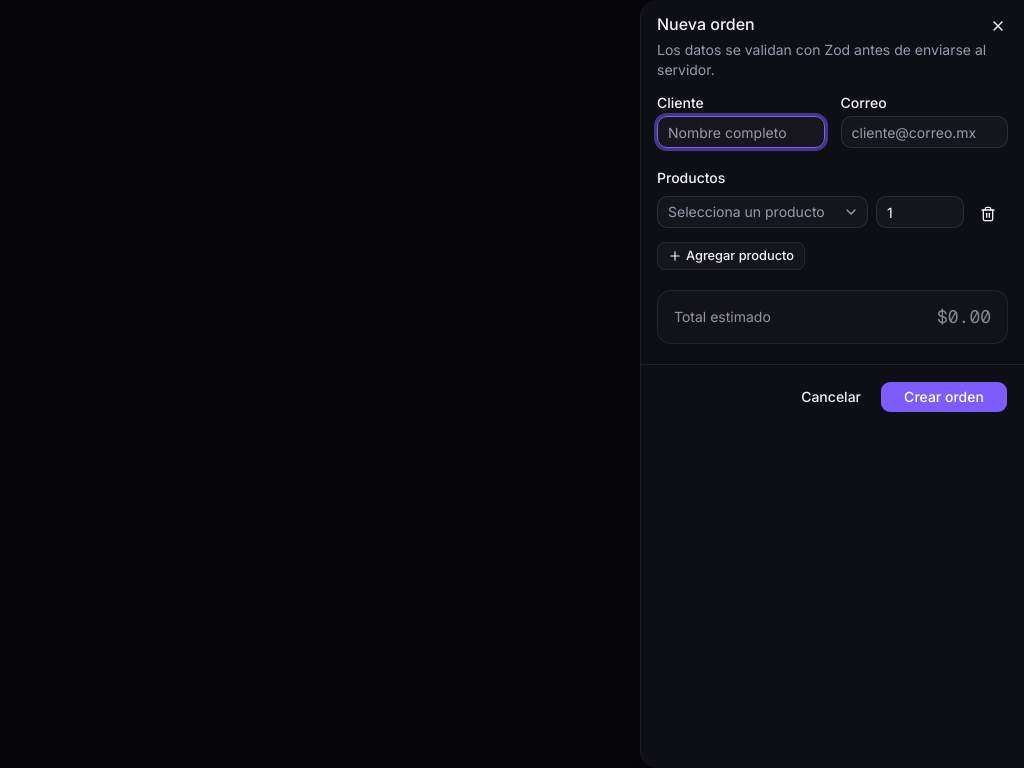
alta de orden sin catálogo › permite quitar la única línea vacía y volver a agregarla
The width and height of the screenshot is (1024, 768).
Click the button named "Quitar producto 1" at (988, 214), box 972,198 -> 1004,230
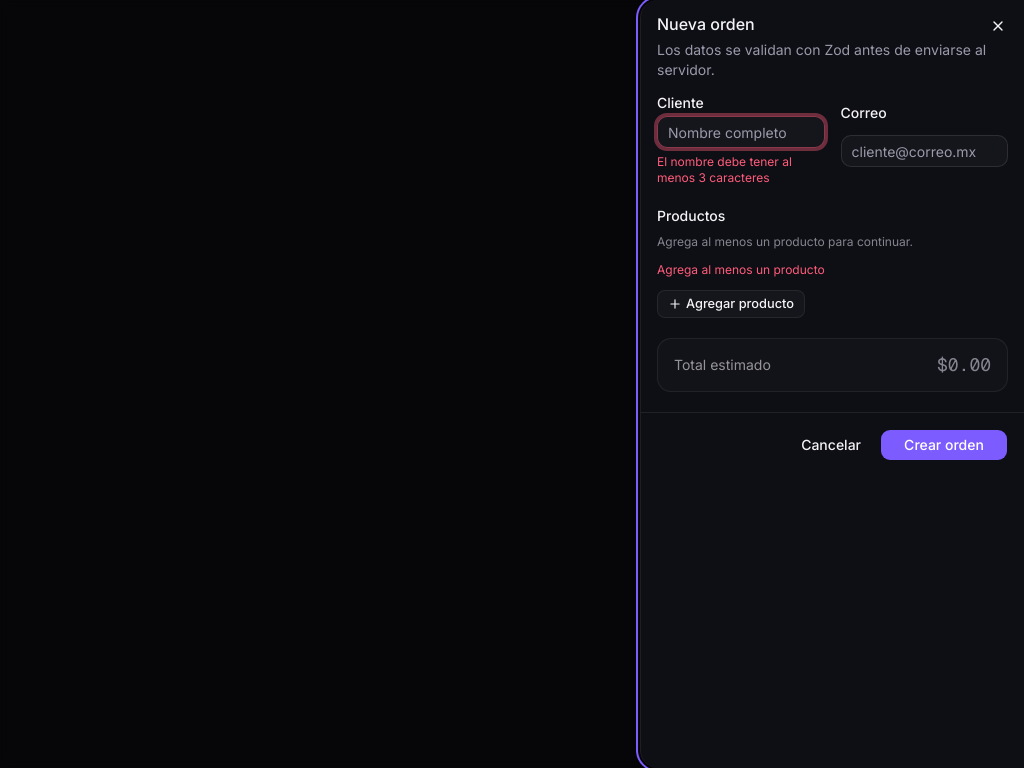
Check: the text "Agrega al menos un producto para continuar." is shown, box 657,234 -> 913,249
Click the button "Agregar producto" at (731, 304), box 657,290 -> 805,318
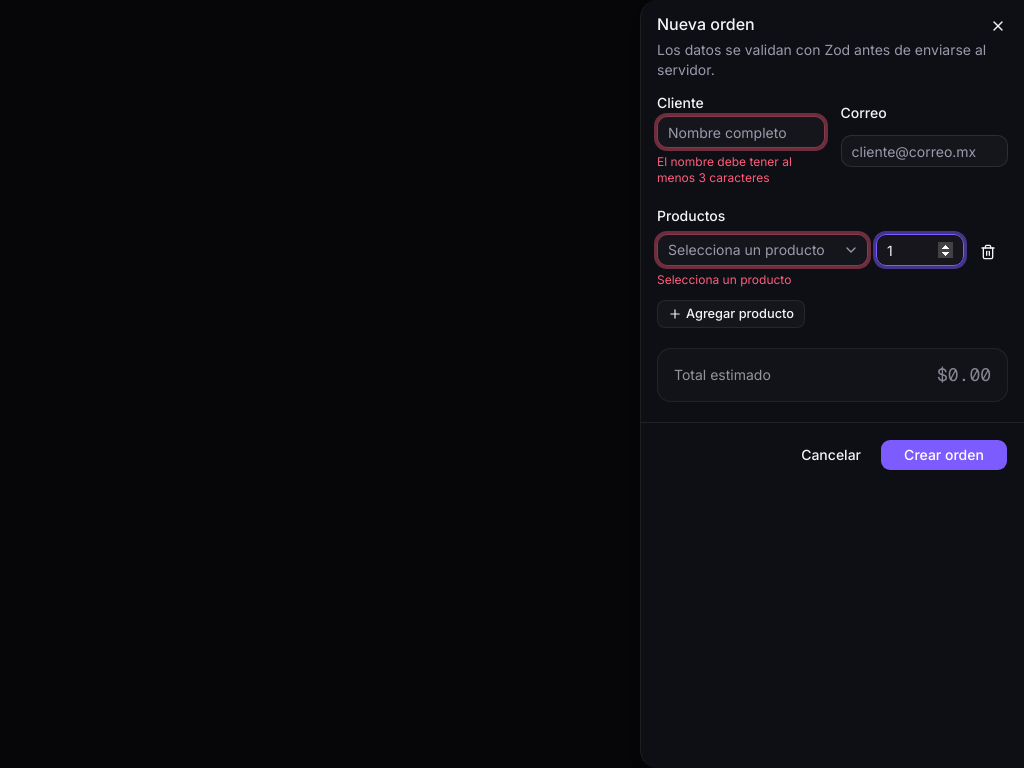
Check: the dropdown named "Producto 1" is shown, box 657,234 -> 868,266
